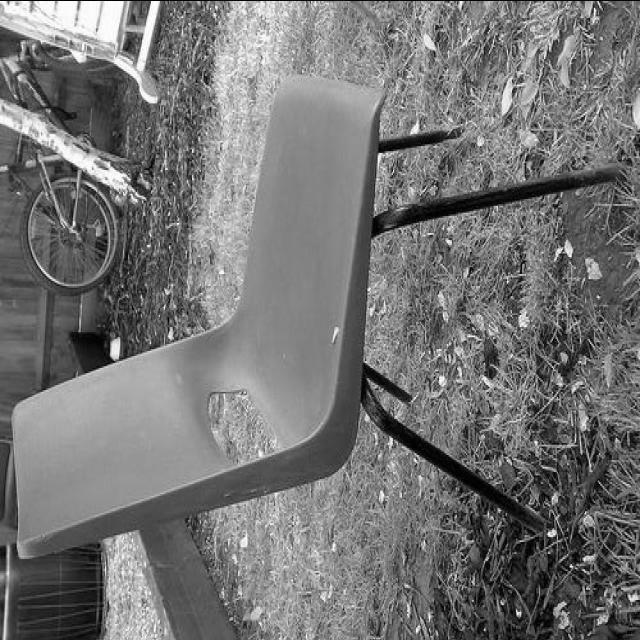chair: (7, 75, 623, 566)
